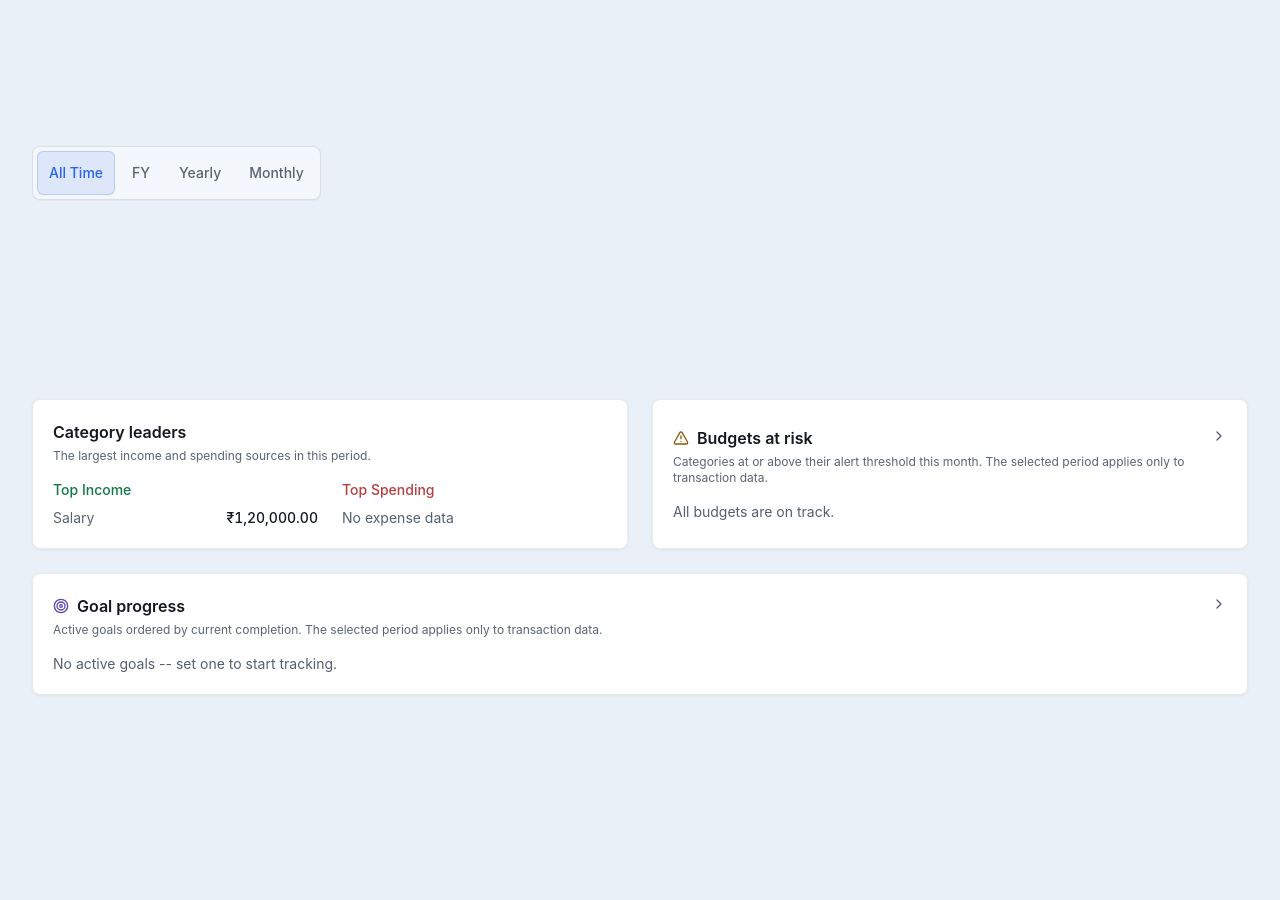
Test case: OverviewPage empty states and period semantics › keeps the selector available so an empty period can recover to All Time
The width and height of the screenshot is (1280, 900).
Click the tab "Monthly".
click(276, 173)  # box [237, 151, 316, 195]
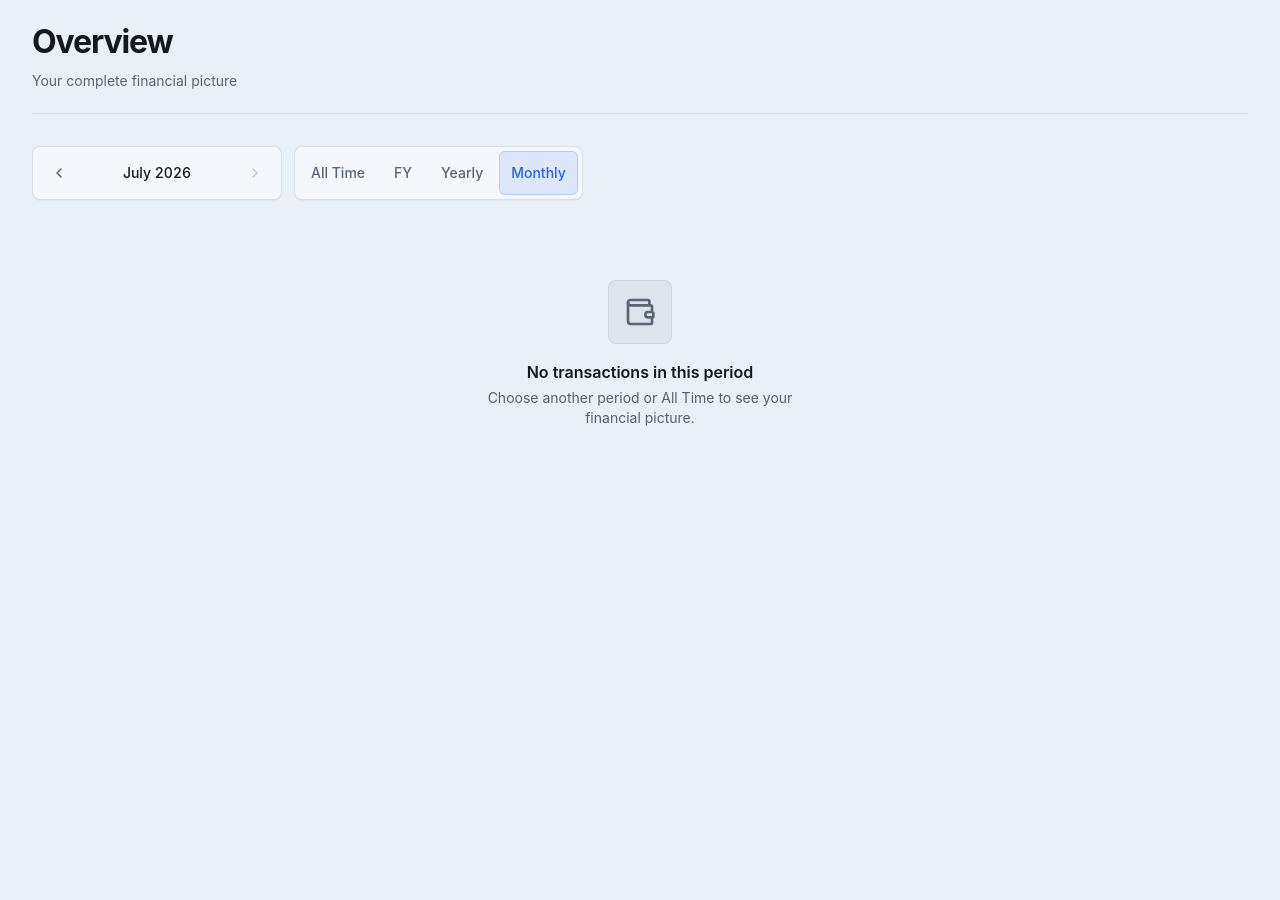
expect the element named "Time range" is shown: met, box [294, 146, 583, 200]
expect the heading "No transactions in this period" is shown: met, box [527, 360, 753, 384]
Click the tab "All Time".
click(338, 173)  # box [299, 151, 377, 195]
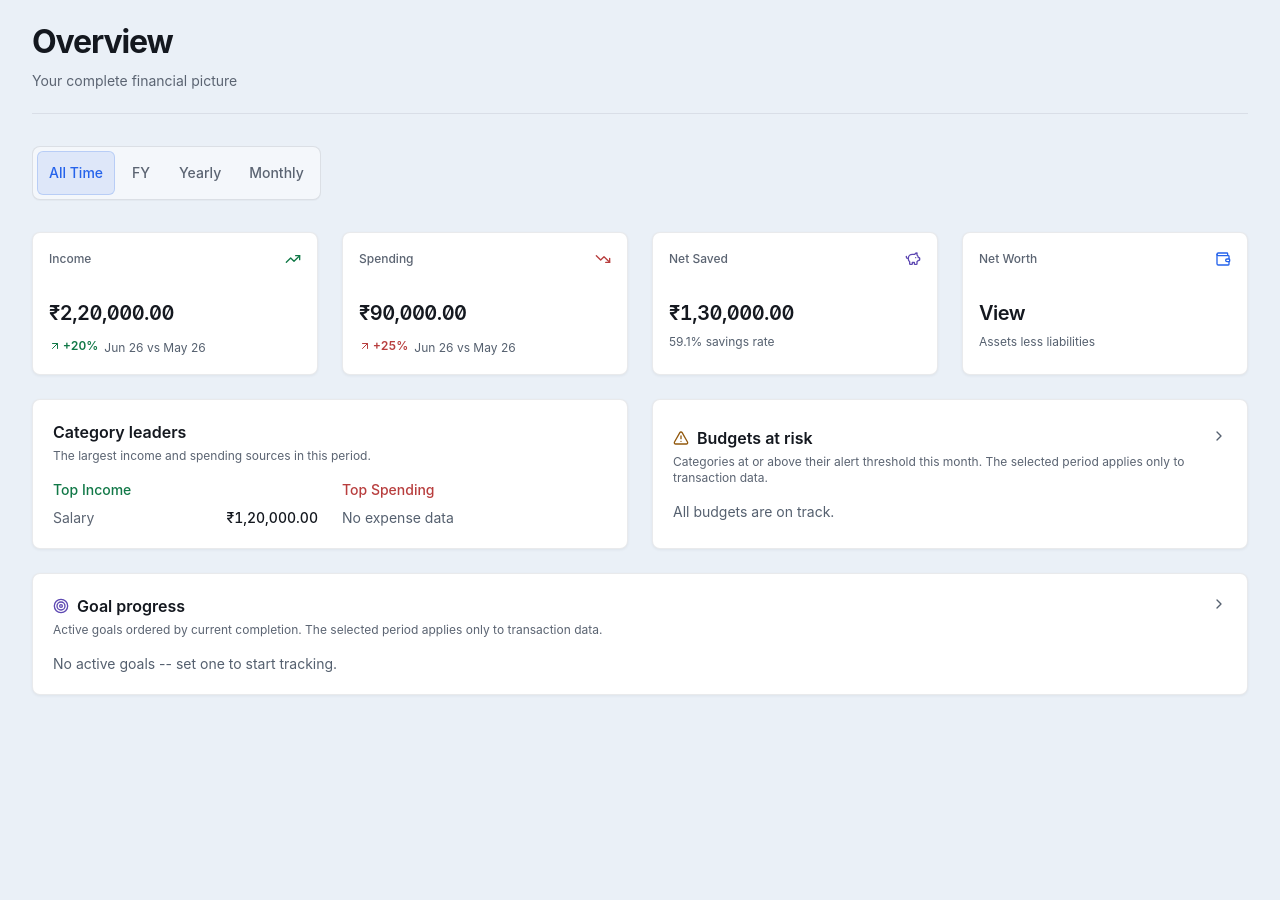
expect the heading "Category leaders" is shown: met, box [53, 422, 186, 442]
expect the heading "No transactions in this period" is gone: met
